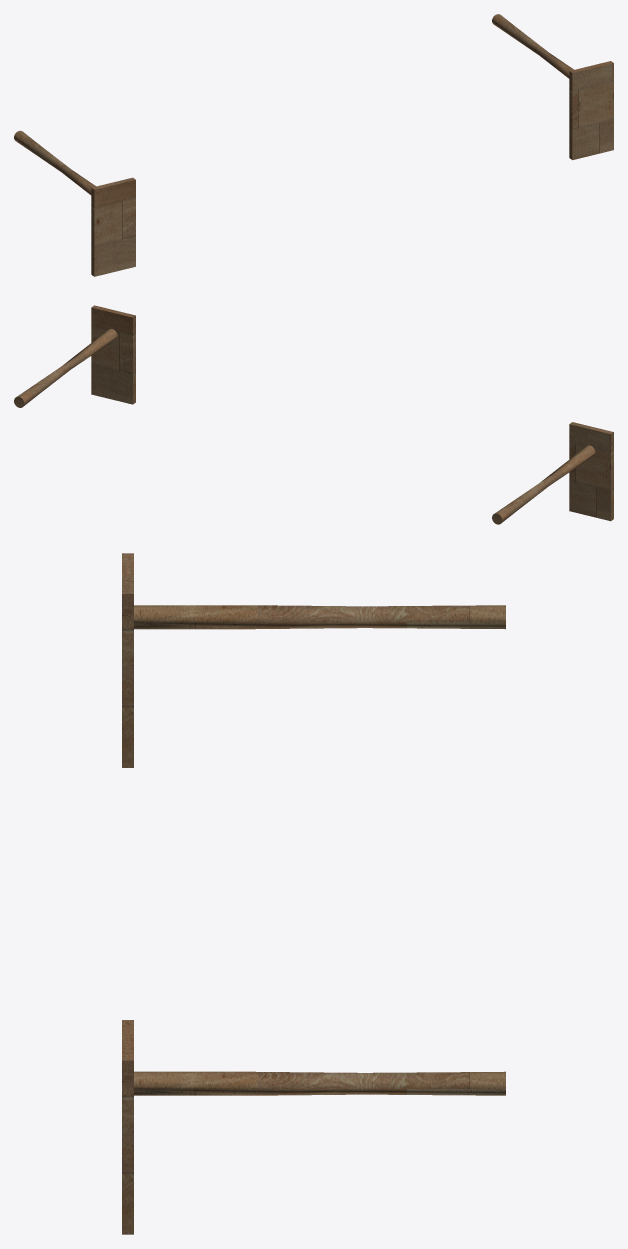
3 views of the same model, one above another, from view 1: azimuth 30°, elevation 25°; view 2: azimuth 150°, elevation 25°; view 3: azimuth 270°, elevation 25° (orthographic). The views are drawn at different scales.
Bounding box in the file's own units: 0.5 × 0.08 × 0.16.
1 material, 1 textured.
